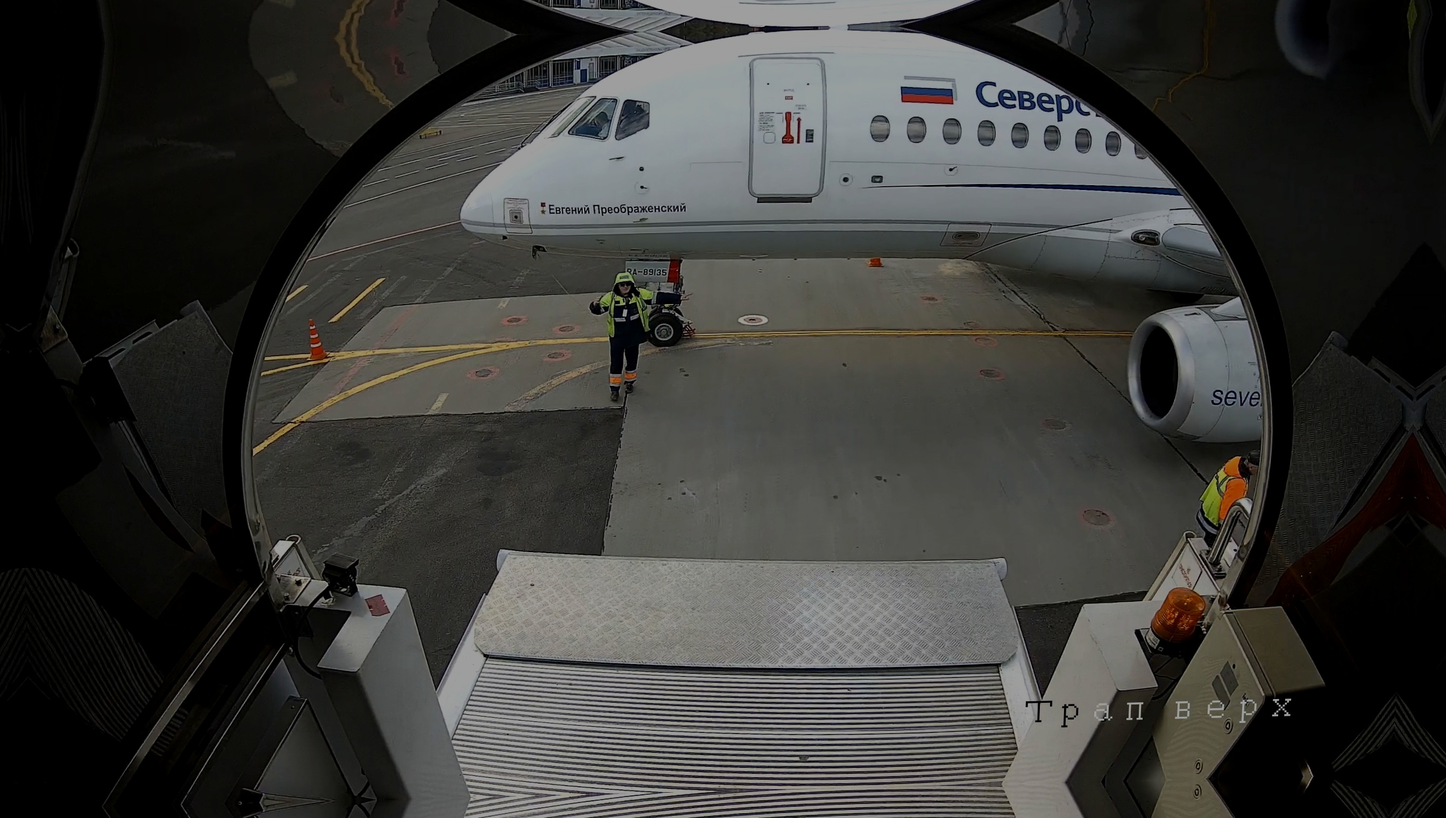boots: (679, 320, 700, 341)
wheels: (646, 309, 684, 347)
